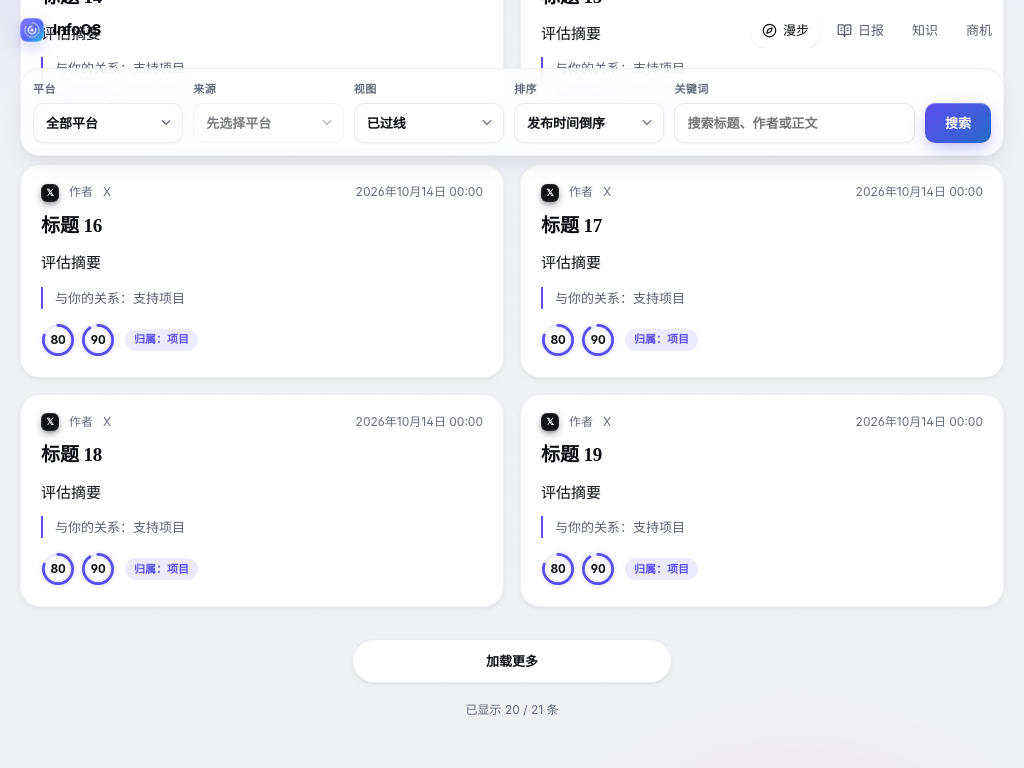
Scenario: browse reader › routes without management, renders scores and links, and loads 20 more by offset
(page scrolled)
Click the button "加载更多": x=512, y=661 [352,639,672,683]
(page scrolled)
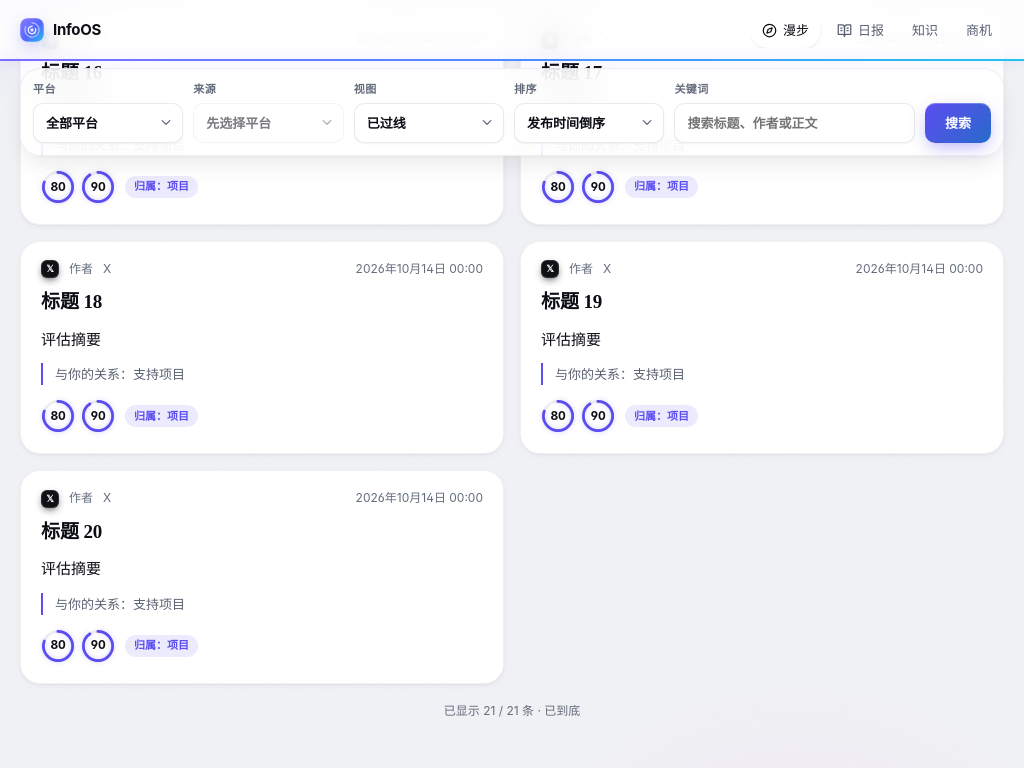
expect the link "标题 20" is shown: met, box [41,521,102,542]
expect the text "已显示 21 / 21 条 · 已到底" is shown: met, box [444,703,580,718]
expect the button "加载更多" is gone: met
